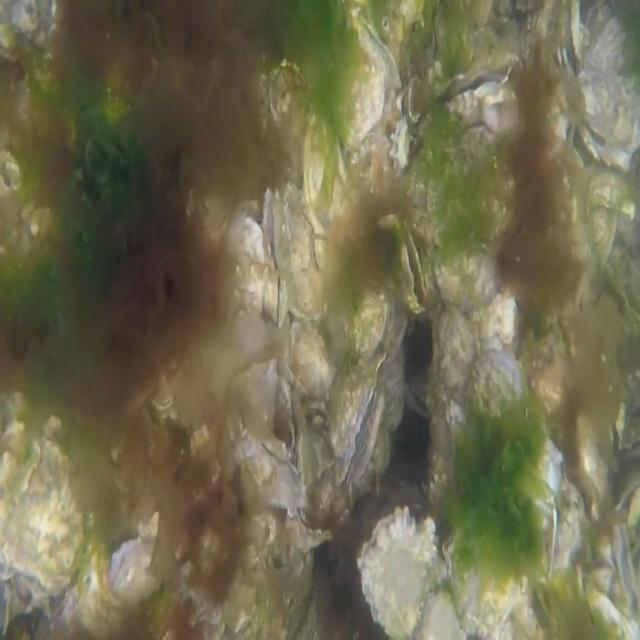Oyster-Closed: (442, 525, 543, 640), (333, 346, 390, 485), (232, 434, 308, 514), (289, 502, 334, 555)
Oyster-Indeterminate: (458, 345, 564, 502), (0, 413, 84, 597), (357, 503, 438, 640), (331, 0, 387, 151), (433, 304, 477, 467), (301, 112, 354, 236), (282, 177, 324, 319), (347, 285, 408, 368), (286, 316, 333, 413), (431, 242, 502, 306), (109, 510, 161, 590), (582, 580, 636, 640), (238, 217, 271, 315), (588, 163, 640, 217), (582, 200, 617, 270)
Oyster-Open: (571, 10, 640, 171), (434, 69, 519, 158), (243, 358, 295, 461), (262, 183, 286, 322), (611, 520, 640, 618), (400, 229, 431, 313), (560, 0, 584, 78)
